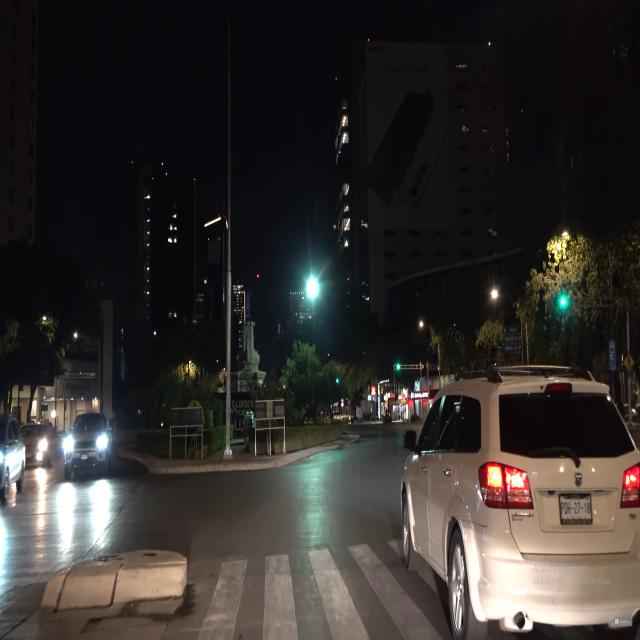headlights: (60, 428, 114, 464)
